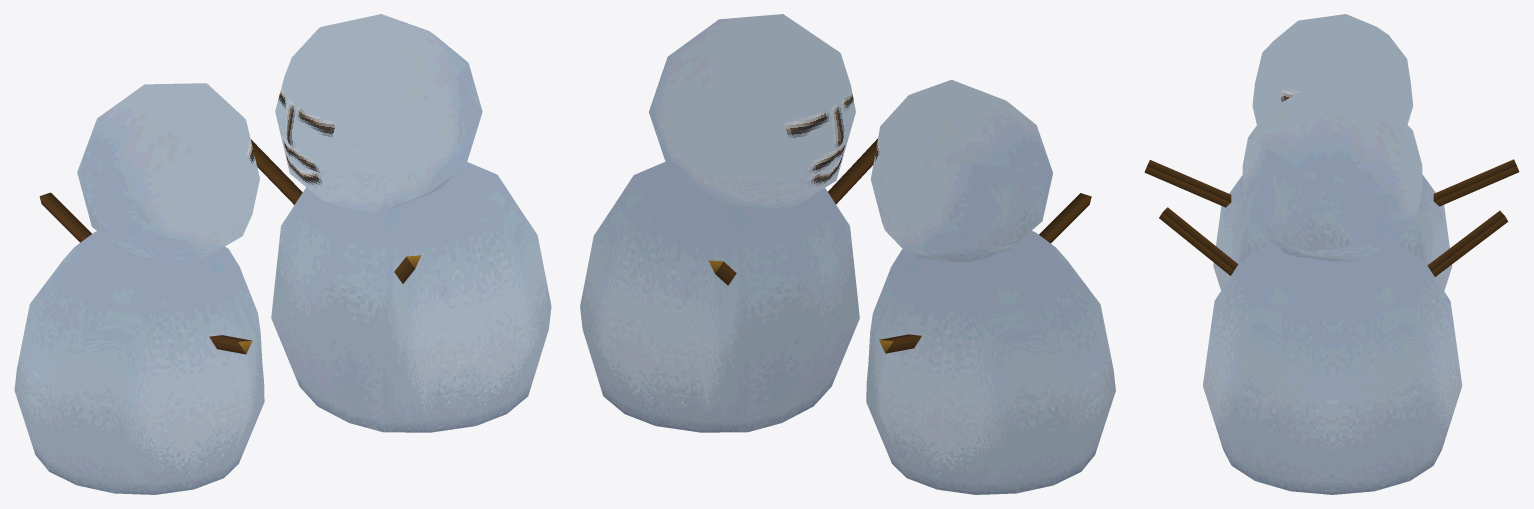
The model's file is ps2_save-icons_pachittechonmagetatsujin10.glb.
The picture shows the model from 3 angles, left to right: view 1: azimuth 30°, elevation 25°; view 2: azimuth 150°, elevation 25°; view 3: azimuth 270°, elevation 25°; orthographic projection. The views are drawn at different scales.
Parts seen in each view (by area): view 1: view.ico; view 2: view.ico; view 3: view.ico.
Part boxes in pixels (x1,y1,x2,y2): view.ico: [14, 14, 551, 494]; view.ico: [580, 14, 1115, 494]; view.ico: [1144, 14, 1519, 494].
Size of the model in its own units: 4.92 by 3.44 by 3.47.
1 material, 1 textured.
